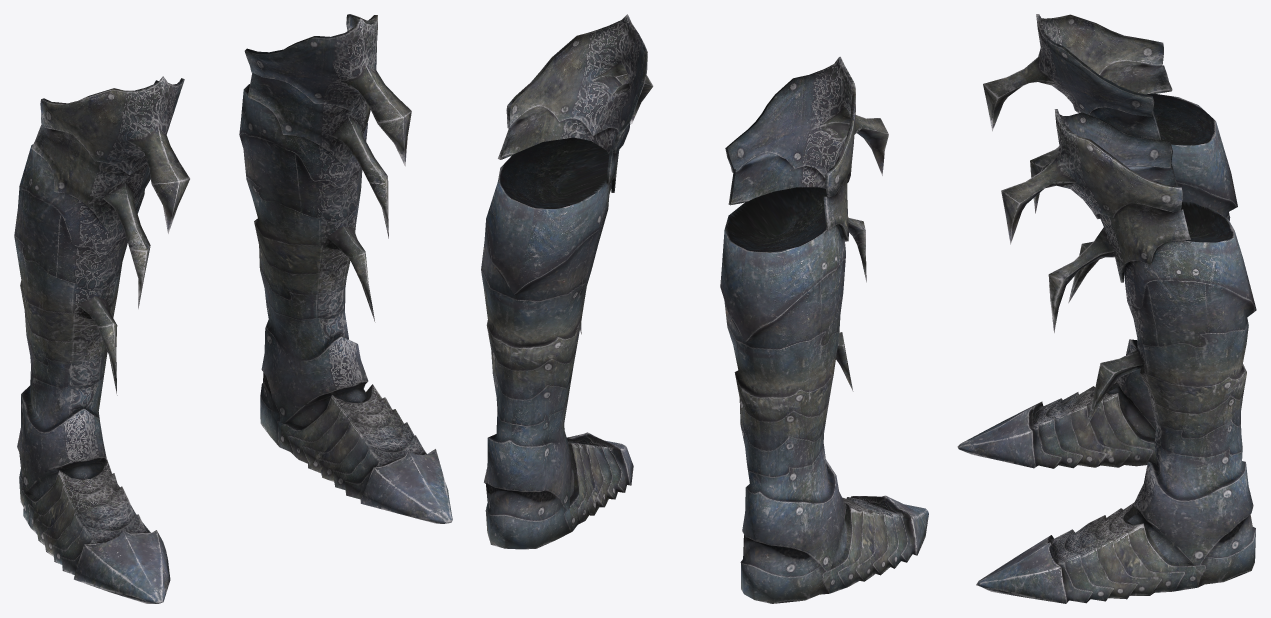
The model's file is sauron_greaves.fbx.
3 renders of one model, left to right at view 1: azimuth 30°, elevation 25°; view 2: azimuth 150°, elevation 25°; view 3: azimuth 270°, elevation 25°, orthographic. The views are drawn at different scales.
Visible parts, largest first — view 1: sauron_greaves; view 2: sauron_greaves; view 3: sauron_greaves.
Part boxes in pixels (<box>): sauron_greaves: <box>14,14,452,603</box>; sauron_greaves: <box>481,14,928,603</box>; sauron_greaves: <box>957,14,1256,603</box>.
Size of the model in its own units: 0.4719 by 0.3454 by 0.585.
Materials: 1 (1 with a texture image).
